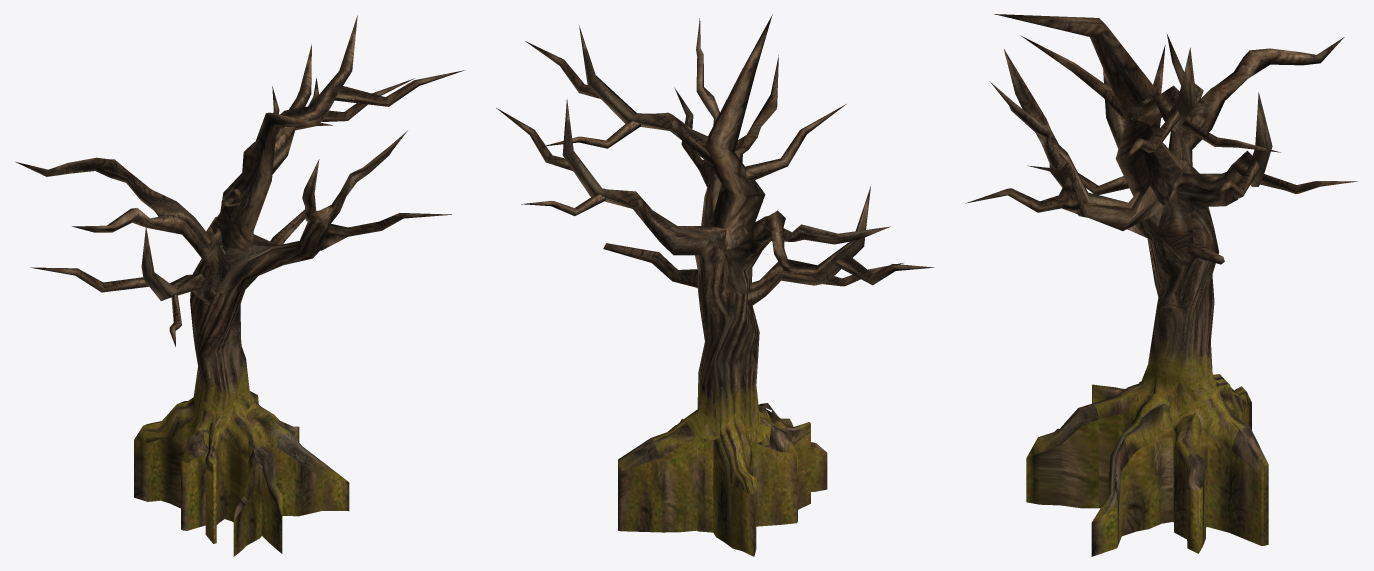
Rendered from n_SWCdtree03.glb.
3 views of the same model, side by side, from view 1: azimuth 30°, elevation 25°; view 2: azimuth 150°, elevation 25°; view 3: azimuth 270°, elevation 25° (orthographic). The views are drawn at different scales.
Parts seen in each view (by area): view 1: n_SWCdtree03; view 2: n_SWCdtree03; view 3: n_SWCdtree03.
Part boxes in pixels (box(x1,y1,x2,y2)): n_SWCdtree03: box(15, 15, 465, 556); n_SWCdtree03: box(496, 14, 934, 556); n_SWCdtree03: box(965, 14, 1357, 556).
Bounding box in the file's own units: 9.84 × 10.17 × 6.75.
Materials: 2 (2 with a texture image).
